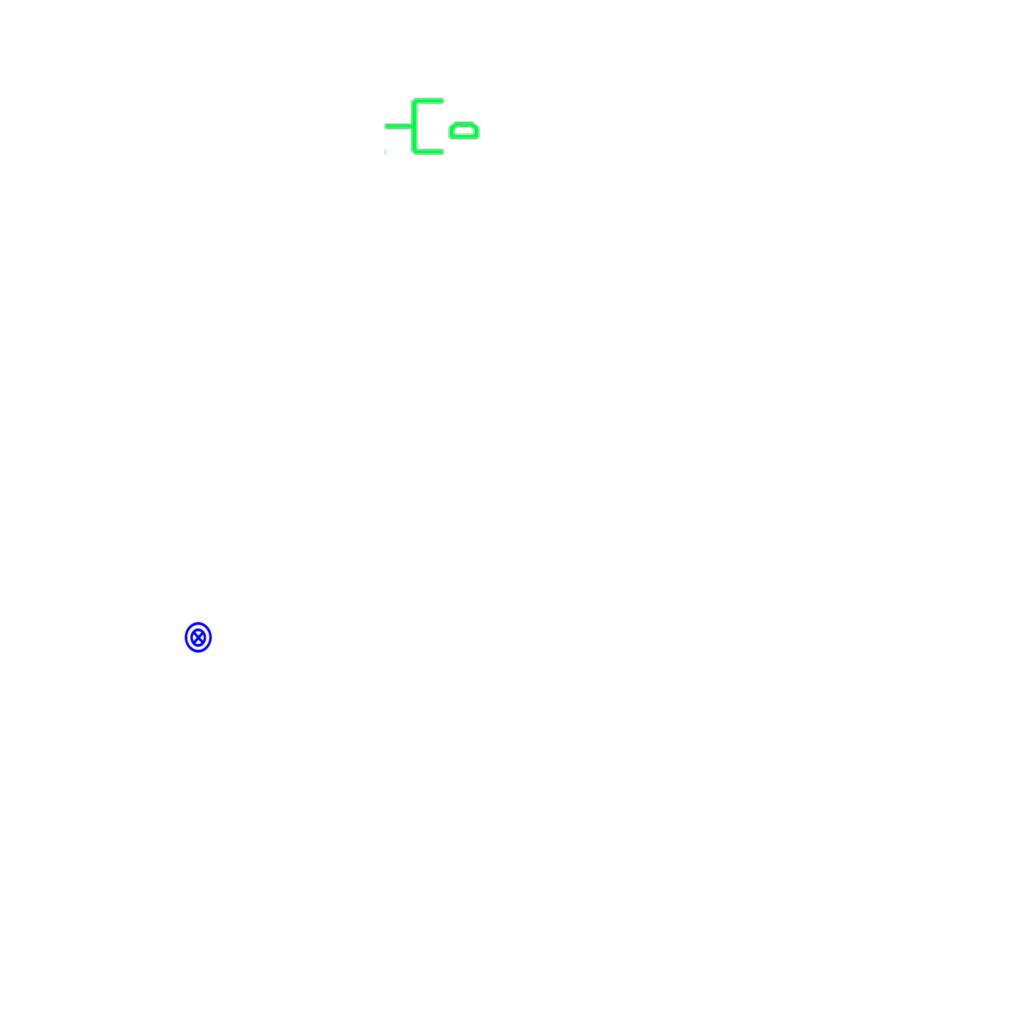Datenanschluss_einfach: (382, 90, 482, 159)
Taster_beleuchtet: (182, 621, 215, 654)
